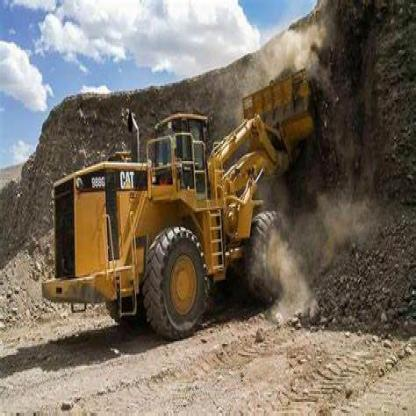bull_dozer/loader/grader: (34, 47, 339, 338)
